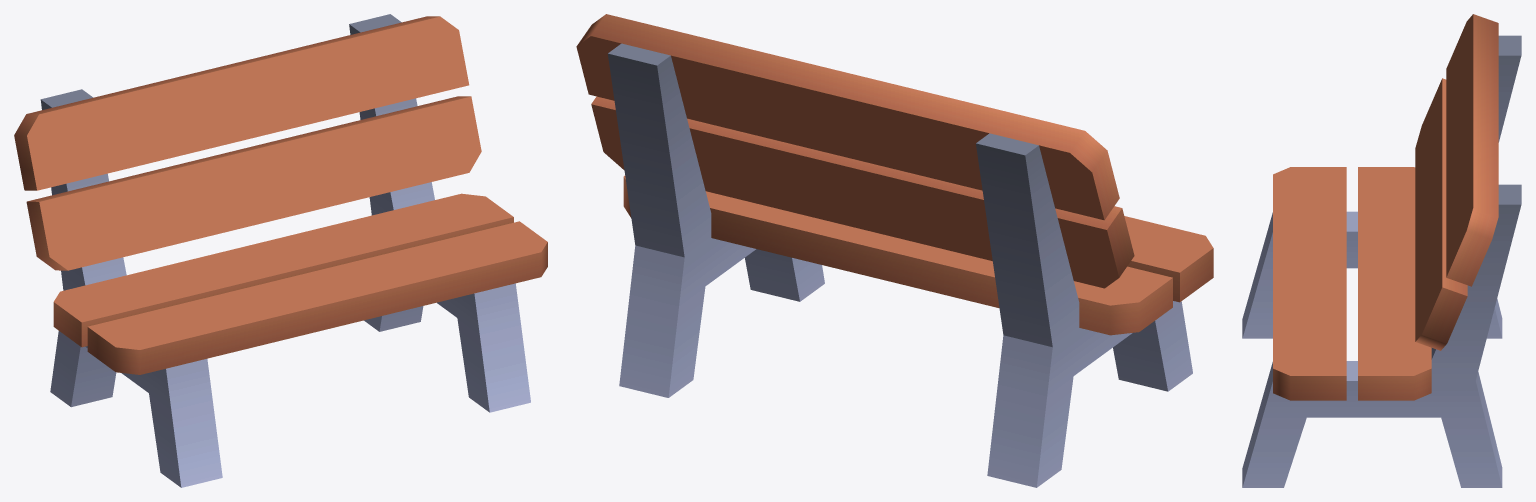
Rendered from k-holiday-bench.glb.
The picture shows the model from 3 angles, left to right: view 1: azimuth 30°, elevation 25°; view 2: azimuth 150°, elevation 25°; view 3: azimuth 270°, elevation 25°; orthographic projection. The views are drawn at different scales.
Visible parts, largest first — view 1: bench; view 2: bench; view 3: bench.
Boxes of the visible parts, x1,y1,x2,y2 form: bench: (14,14,547,487); bench: (576,14,1213,487); bench: (1242,14,1521,487).
Bounding box in the file's own units: 1.12 × 0.7306 × 0.6322.
1 material, 1 textured.
